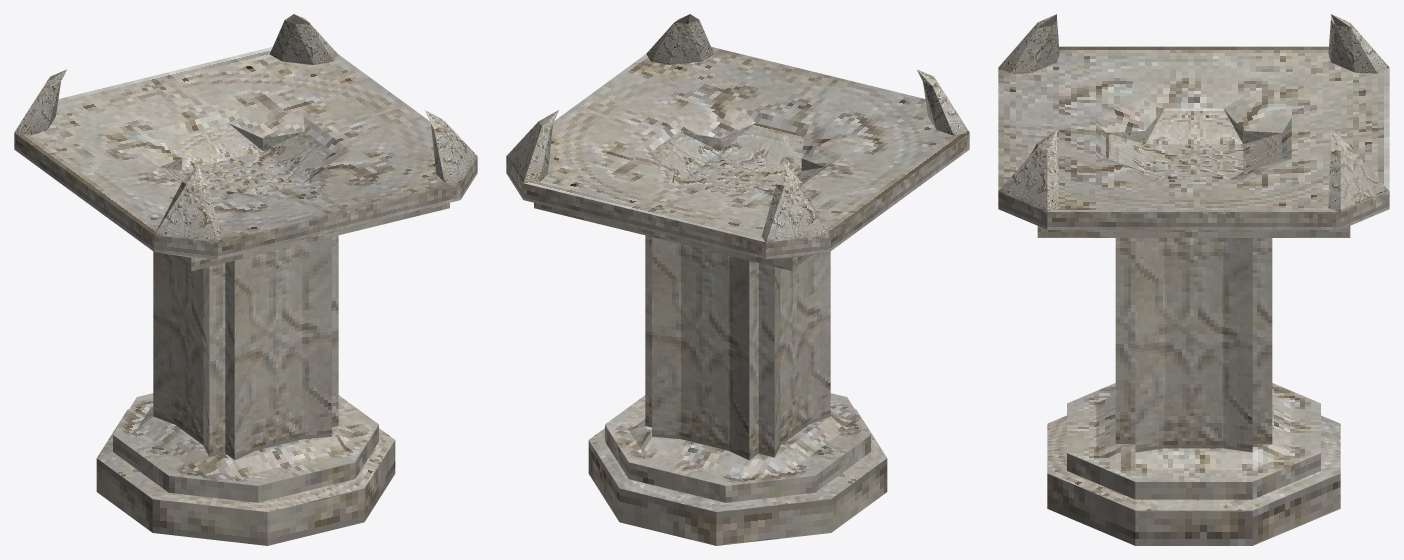
Rendered from imps_aligned_pedestal.obj.
3 renders of one model, left to right at view 1: azimuth 30°, elevation 25°; view 2: azimuth 150°, elevation 25°; view 3: azimuth 270°, elevation 25°, orthographic. The views are drawn at different scales.
Parts seen in each view (by area): view 1: Cube.001; view 2: Cube.001; view 3: Cube.001.
Boxes of the visible parts, x1,y1,x2,y2 form: Cube.001: (14,14,477,545); Cube.001: (506,14,969,545); Cube.001: (998,14,1389,545).
Size of the model in its own units: 1 by 1.16 by 1.
